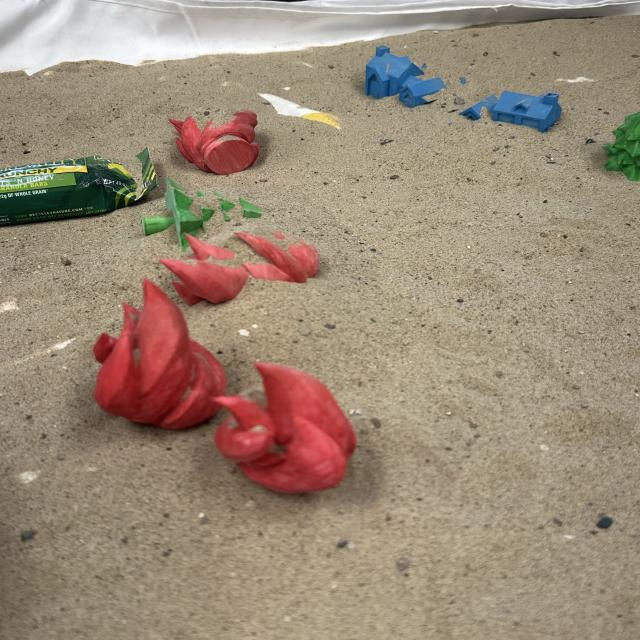fire: (91, 277, 227, 430), (210, 360, 358, 495), (158, 230, 326, 306), (167, 109, 261, 175)
house: (362, 41, 471, 109), (453, 92, 567, 134)
tree: (142, 183, 275, 245), (605, 111, 640, 180)
